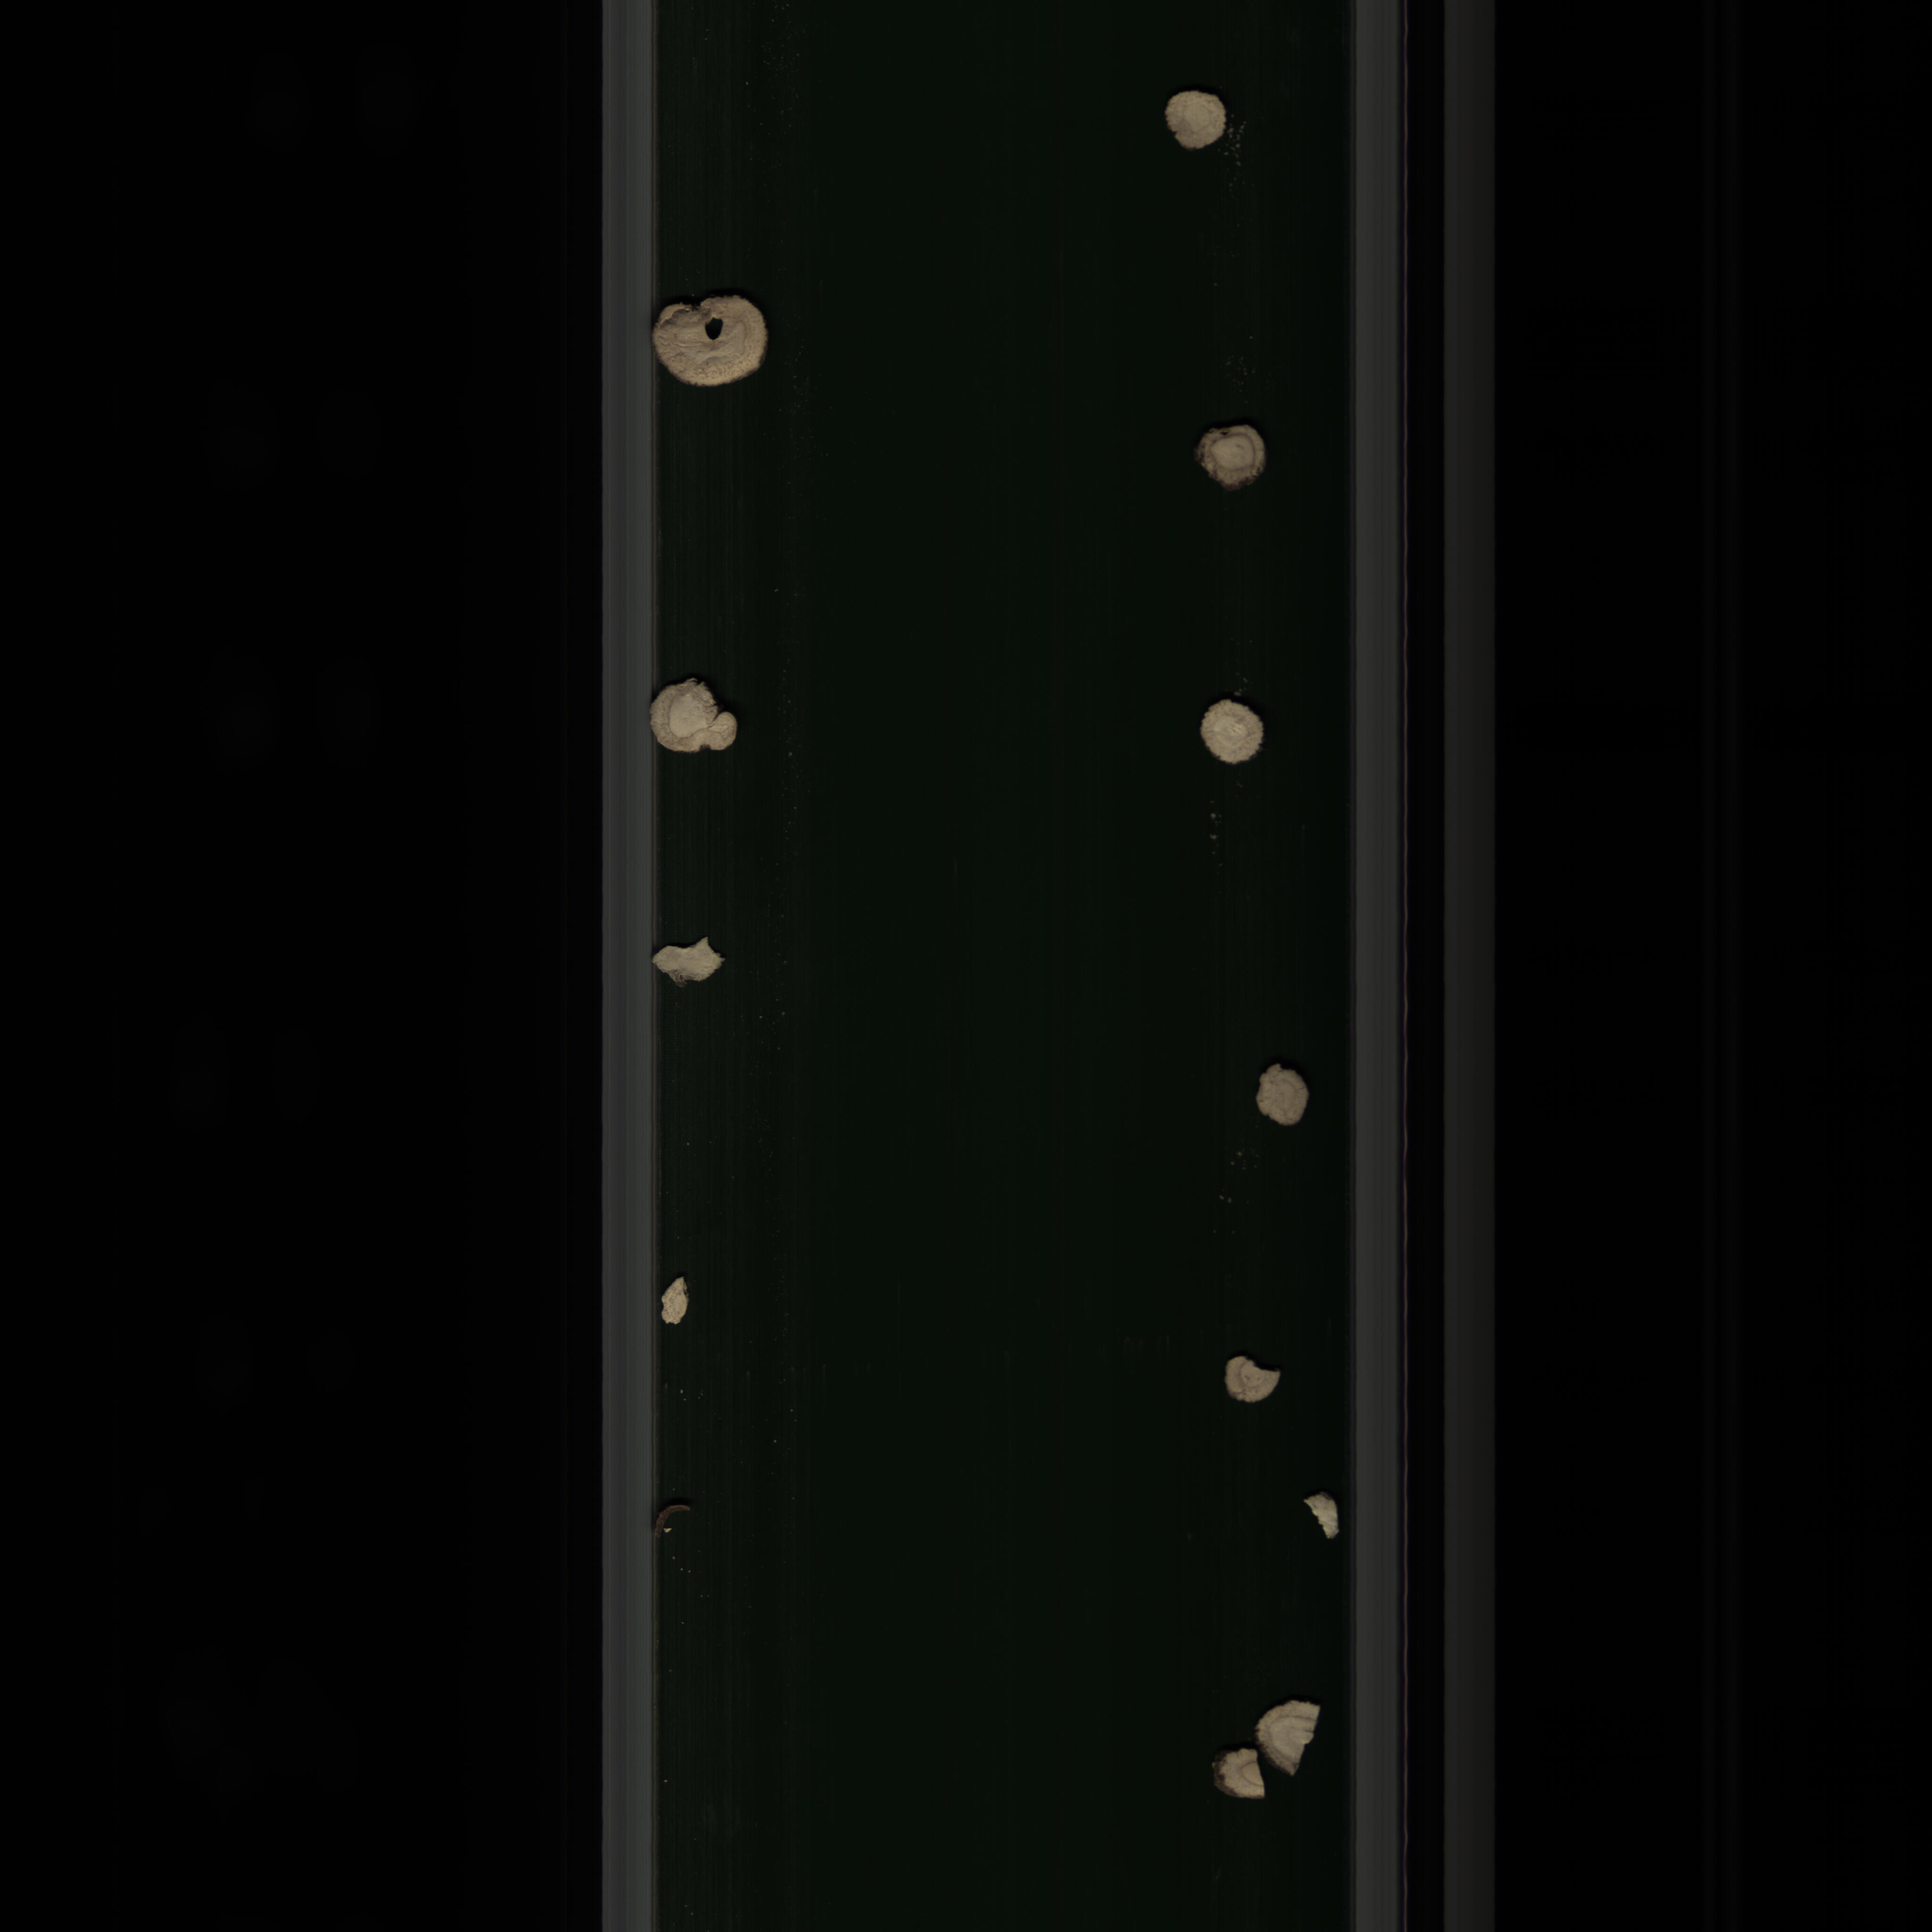bark: (648, 1491, 695, 1545)
debris: (1207, 1684, 1338, 1817), (1205, 1345, 1293, 1417), (642, 924, 738, 989), (1299, 1481, 1341, 1557), (653, 1270, 697, 1341)
distortion: (644, 665, 755, 773), (1184, 418, 1281, 481)
hole: (639, 272, 780, 409)
